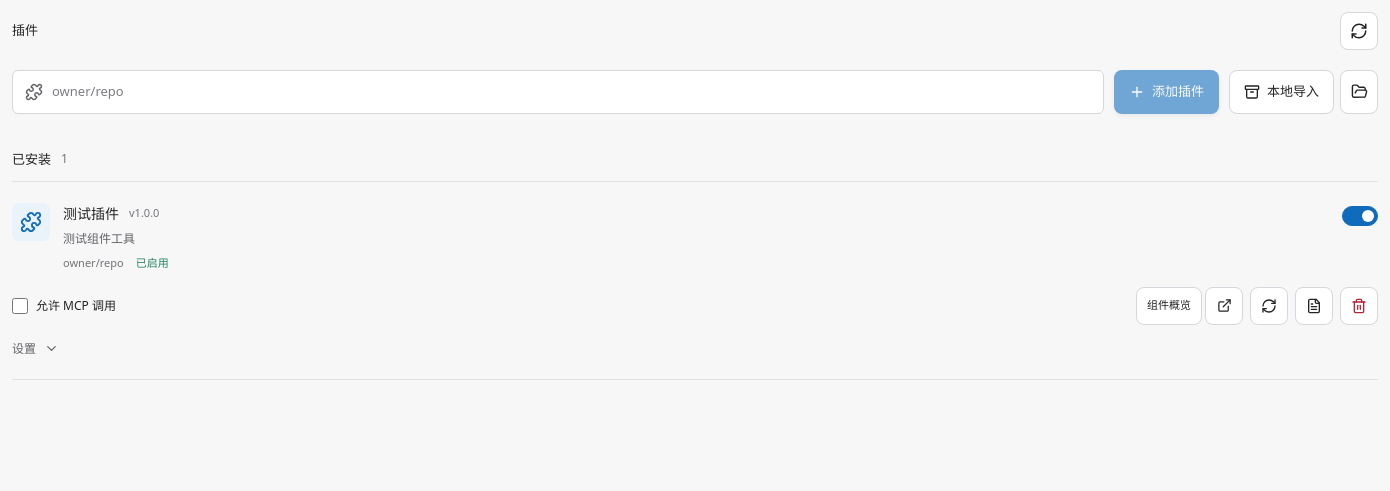
Test: plugin management › removes an uninstalled plugin even when the follow-up refresh fails
Click the button named "卸载 测试插件" at (1359, 306), box [1340, 286, 1378, 324]
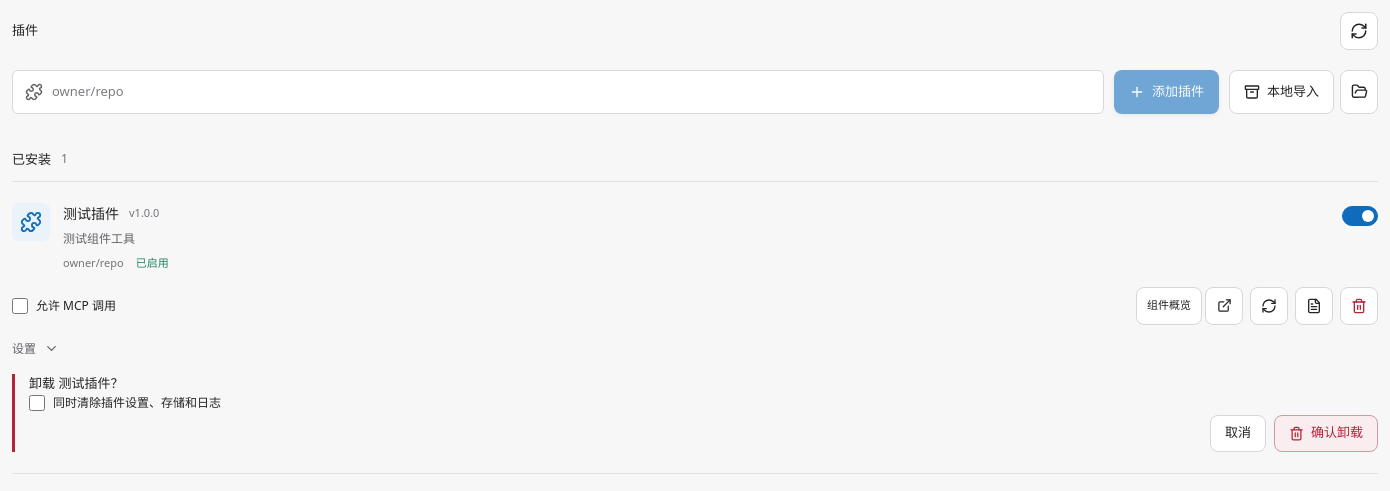
Click the button "确认卸载" at (1326, 433), box [1274, 414, 1378, 452]
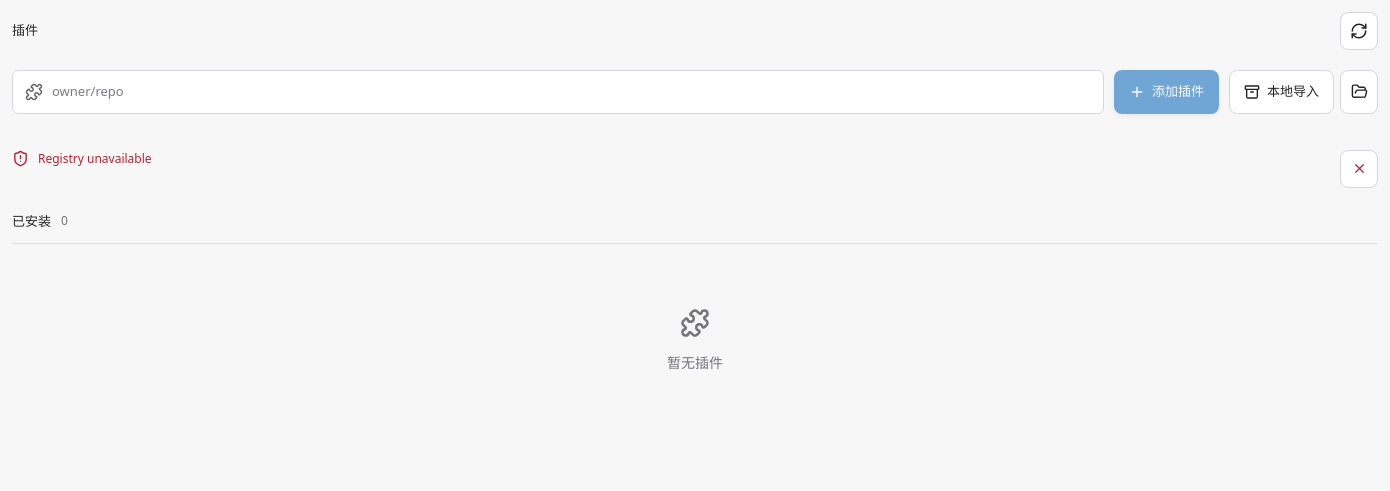
Result: the text "卸载 测试插件" is gone
Result: the message reads "Registry unavailable" at [38, 150, 152, 166]
